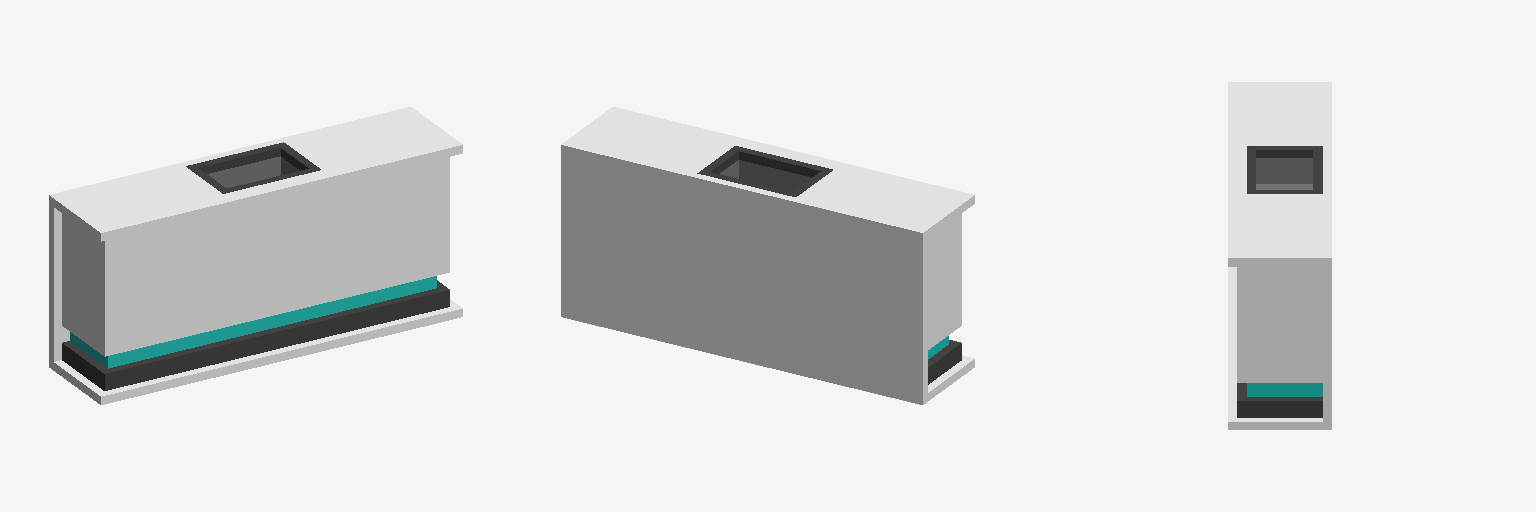
The picture shows the model from 3 angles: view 1: azimuth 30°, elevation 25°; view 2: azimuth 150°, elevation 25°; view 3: azimuth 270°, elevation 25°; orthographic projection.
Parts seen in each view (by area): view 1: Stand; view 2: Stand; view 3: Stand.
Part boxes in pixels (left/top/right/bottom): Stand: left=49, top=107, right=462, bottom=404; Stand: left=561, top=107, right=974, bottom=404; Stand: left=1228, top=82, right=1331, bottom=429.
Size of the model in its own units: 4.4 by 2 by 1.1.
1 materials, 1 textured.